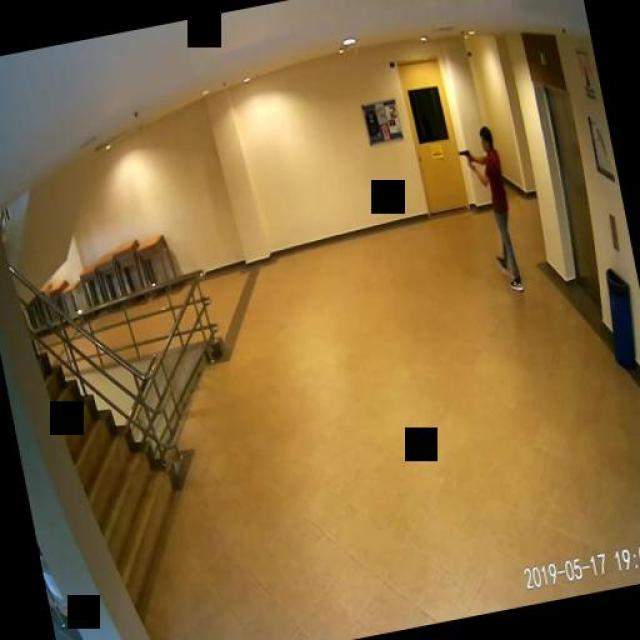gun: (456, 146, 472, 164)
